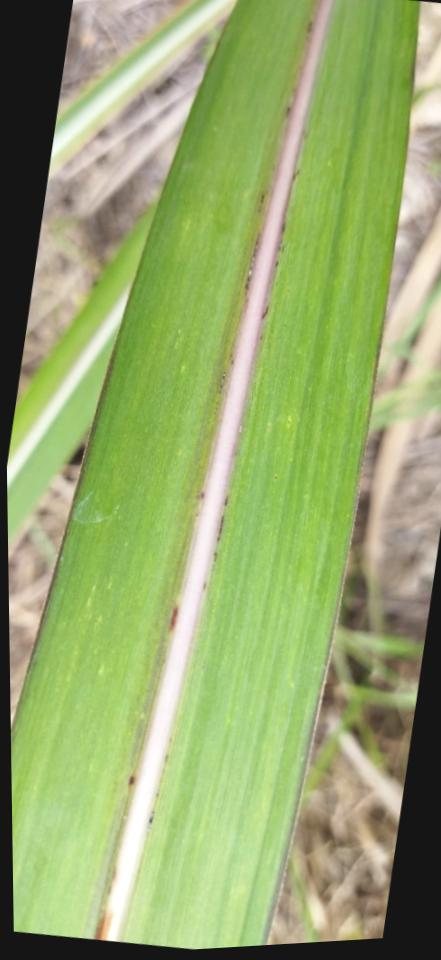Rust: (241, 226, 262, 297), (210, 493, 229, 564), (271, 219, 289, 271), (165, 600, 181, 636), (217, 368, 228, 395), (146, 808, 158, 832), (301, 19, 313, 41), (260, 301, 270, 323), (257, 189, 265, 215), (290, 167, 301, 183), (284, 100, 291, 122), (128, 770, 136, 788), (200, 579, 208, 593), (195, 490, 205, 500)
